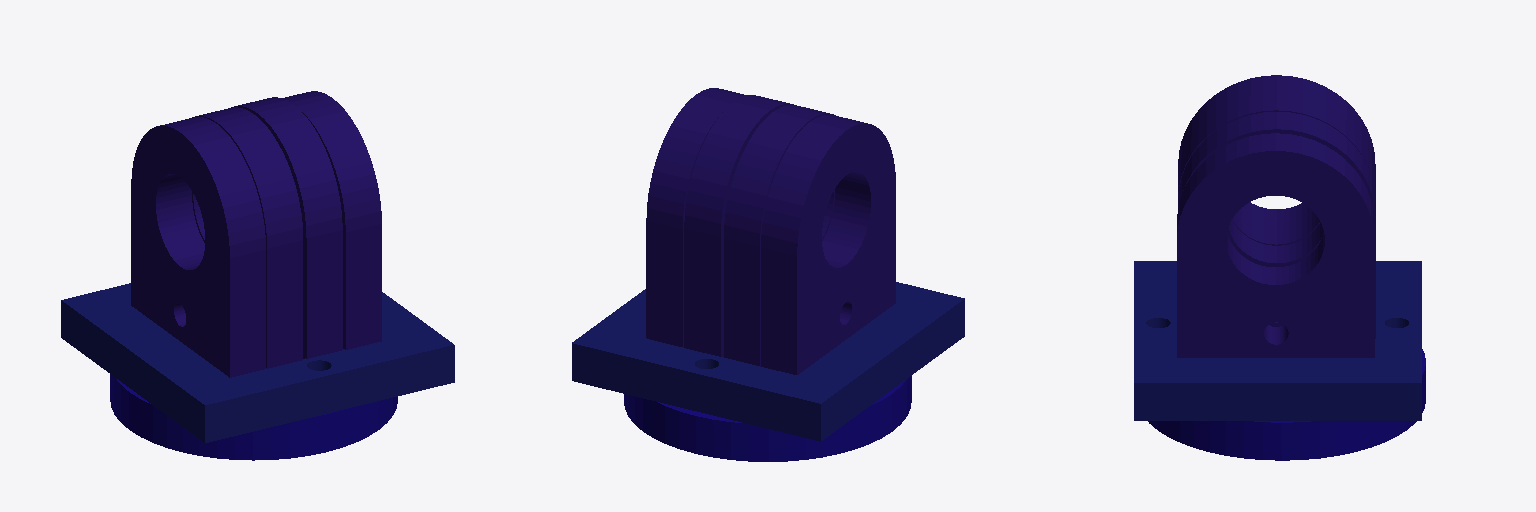
Rendered from G4_overview.obj.
The picture shows the model from 3 angles: view 1: azimuth 30°, elevation 25°; view 2: azimuth 150°, elevation 25°; view 3: azimuth 270°, elevation 25°; orthographic projection.
Visible parts, largest first — view 1: Mesh.002_Mesh.002_Mesh.049.001, Mesh.001_Mesh.001_Mesh.057.001, Mesh_Mesh.004_Mesh.049.001, Mesh.004_Mesh_Mesh.049_Cur.001, Mesh.003_Mesh.003_Mesh.049.001, Curve.002_Mesh.005; view 2: Mesh.002_Mesh.002_Mesh.049.001, Mesh.001_Mesh.001_Mesh.057.001, Mesh_Mesh.004_Mesh.049.001, Mesh.004_Mesh_Mesh.049_Cur.001, Mesh.003_Mesh.003_Mesh.049.001, Curve.002_Mesh.005; view 3: Mesh.003_Mesh.003_Mesh.049.001, Mesh.001_Mesh.001_Mesh.057.001, Curve.002_Mesh.005, Mesh_Mesh.004_Mesh.049.001, Mesh.004_Mesh_Mesh.049_Cur.001, Mesh.002_Mesh.002_Mesh.049.001.
Part boxes in pixels (x1,y1,x2,y2): Mesh.002_Mesh.002_Mesh.049.001: (131, 117, 265, 377); Mesh.001_Mesh.001_Mesh.057.001: (61, 283, 454, 442); Mesh_Mesh.004_Mesh.049.001: (231, 97, 342, 358); Mesh.004_Mesh_Mesh.049_Cur.001: (192, 107, 302, 368); Mesh.003_Mesh.003_Mesh.049.001: (282, 91, 381, 349); Curve.002_Mesh.005: (110, 374, 397, 460); Mesh.002_Mesh.002_Mesh.049.001: (761, 114, 895, 374); Mesh.001_Mesh.001_Mesh.057.001: (572, 282, 964, 441); Mesh_Mesh.004_Mesh.049.001: (684, 95, 793, 356); Mesh.004_Mesh_Mesh.049_Cur.001: (724, 105, 835, 366); Mesh.003_Mesh.003_Mesh.049.001: (646, 88, 746, 347); Curve.002_Mesh.005: (624, 376, 911, 461); Mesh.003_Mesh.003_Mesh.049.001: (1177, 133, 1373, 357); Mesh.001_Mesh.001_Mesh.057.001: (1134, 261, 1421, 420); Curve.002_Mesh.005: (1148, 349, 1425, 460); Mesh_Mesh.004_Mesh.049.001: (1178, 112, 1375, 357); Mesh.004_Mesh_Mesh.049_Cur.001: (1178, 93, 1374, 245); Mesh.002_Mesh.002_Mesh.049.001: (1178, 75, 1375, 226).
Bounding box in the file's own units: 1.39 × 1.52 × 1.4.